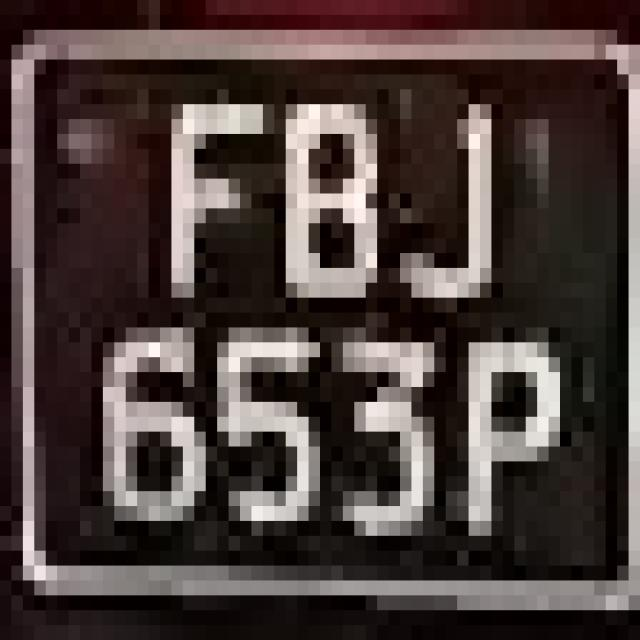3: (320, 282, 446, 566)
5: (183, 298, 331, 550)
6: (68, 283, 205, 506)
B: (240, 75, 400, 328)
F: (148, 60, 263, 328)
J: (354, 60, 514, 312)
P: (434, 298, 572, 580)
